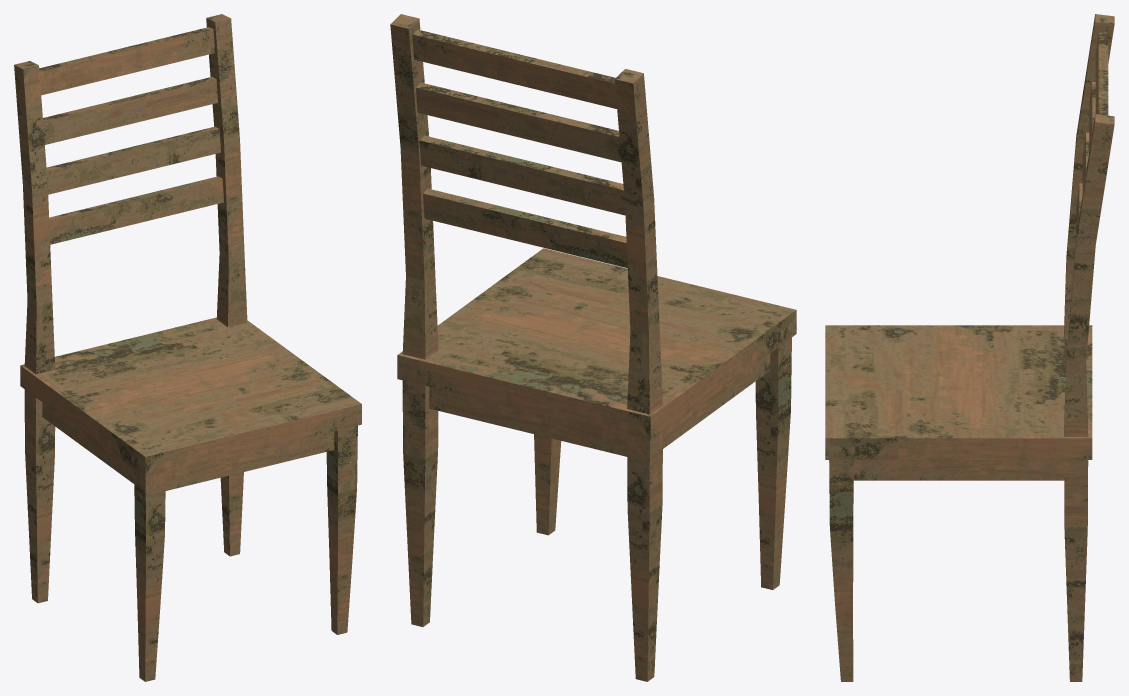
Rendered from Chair.glb.
3 renders of one model, left to right at view 1: azimuth 30°, elevation 25°; view 2: azimuth 150°, elevation 25°; view 3: azimuth 270°, elevation 25°, orthographic. The views are drawn at different scales.
Parts seen in each view (by area): view 1: Chair_1; view 2: Chair_1; view 3: Chair_1.
Boxes of the visible parts, x1,y1,x2,y2 form: Chair_1: (14,14,361,681); Chair_1: (390,14,796,681); Chair_1: (825,14,1114,681).
Size of the model in its own units: 0.7617 by 1.77 by 0.8254.
Materials: 1 (1 with a texture image).
